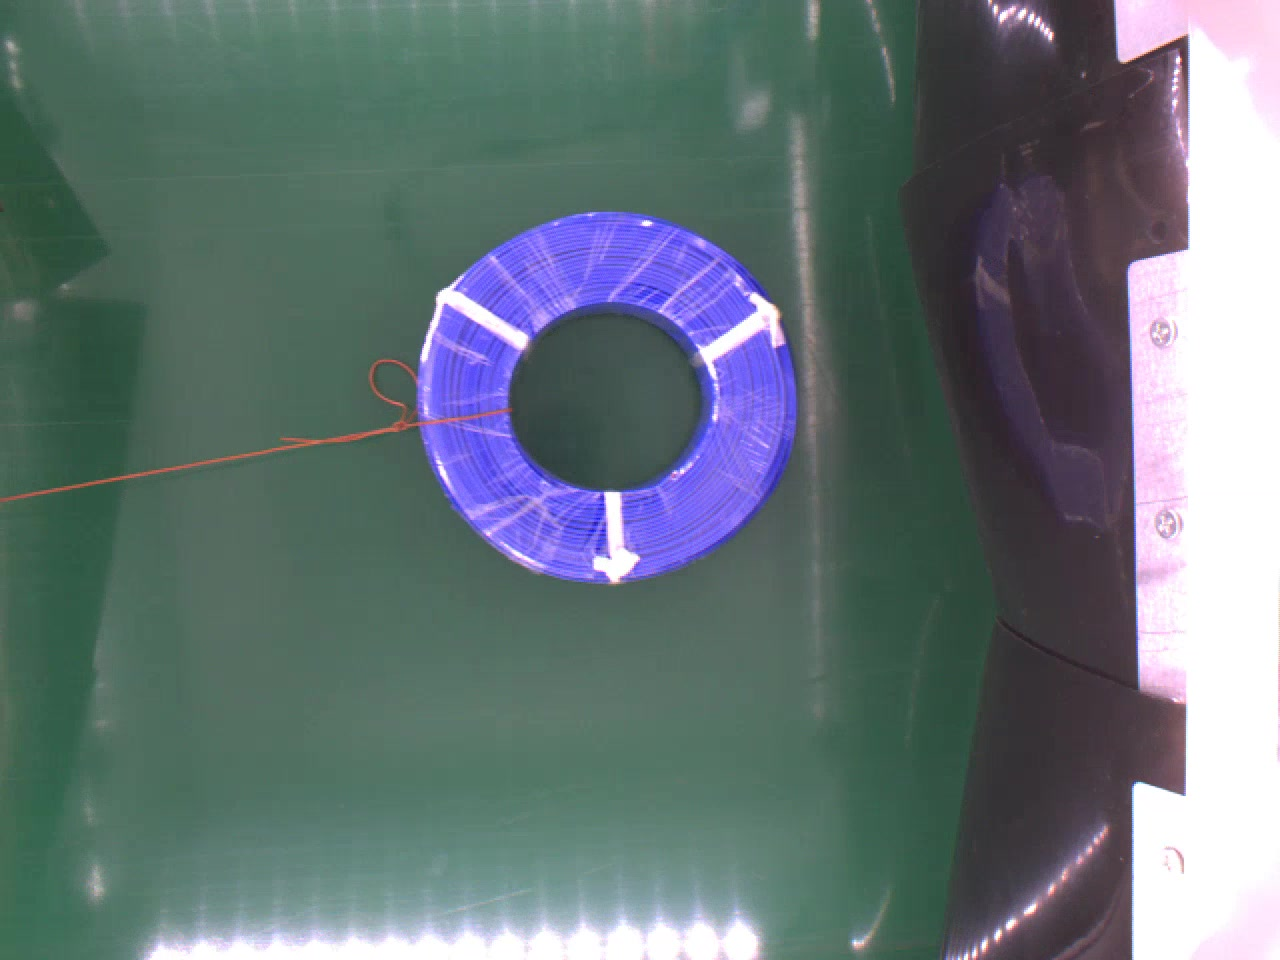blue: (412, 206, 804, 583)
